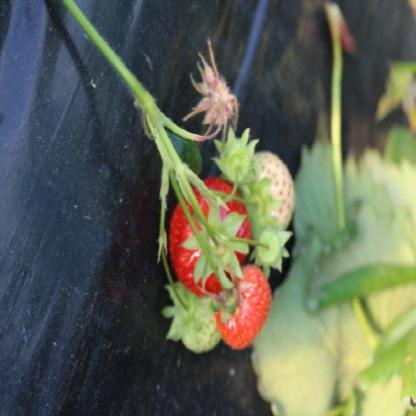Strawberry_Gray_Mold: (181, 38, 240, 144)
